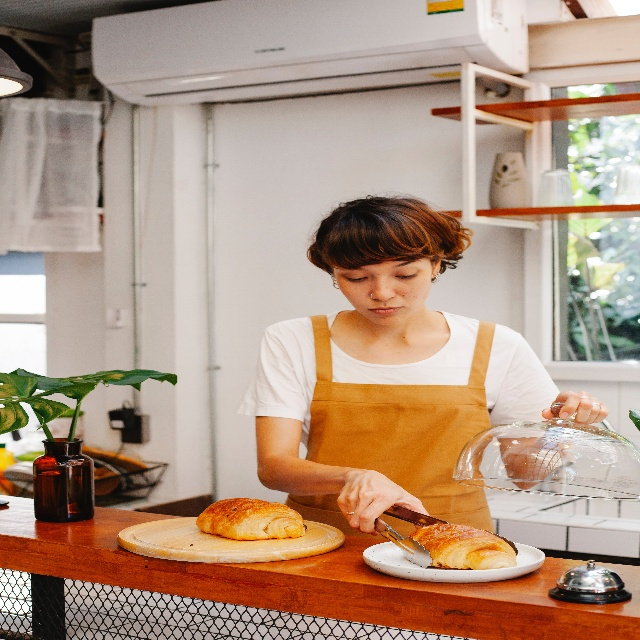Sin_guantes: (336, 468, 430, 536), (542, 390, 609, 425)
